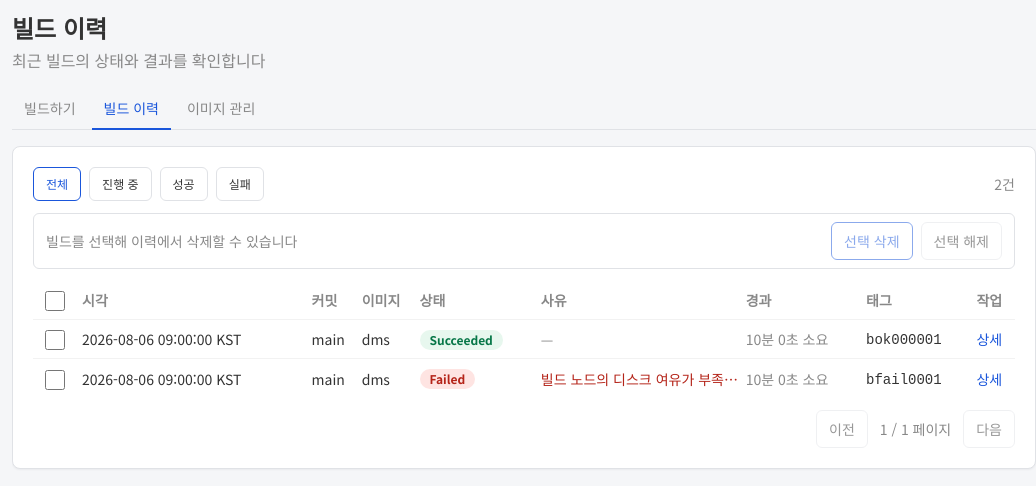
Test: BuildHistory — 빌드 이력 › 상태 필터로 실패만 볼 수 있다
The width and height of the screenshot is (1036, 486).
Expected: the text "bok000001" is shown, x1=866 y1=332 x2=942 y2=348
Click the button "실패": (240, 184) x1=216 y1=167 x2=264 y2=201
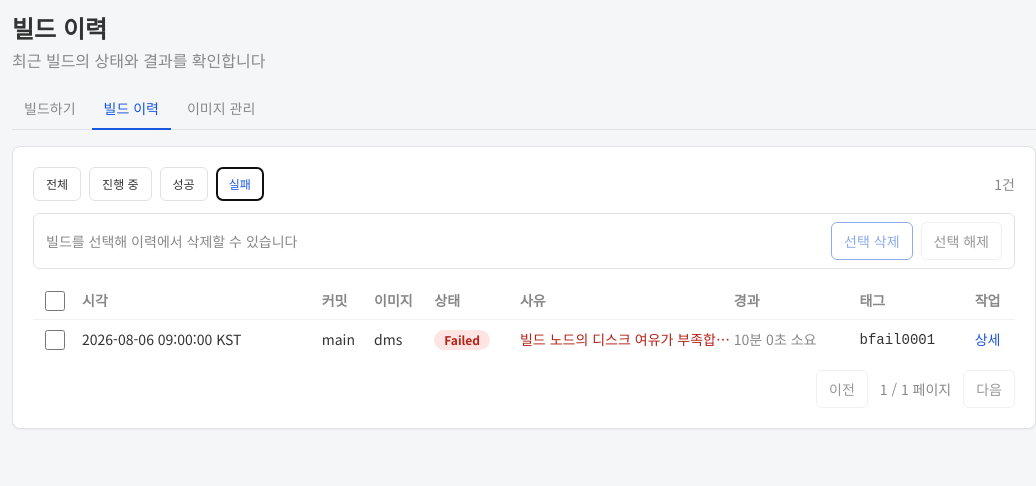
Expected: the text "bfail0001" is shown, x1=860 y1=332 x2=935 y2=348
Expected: the text "bok000001" is gone
